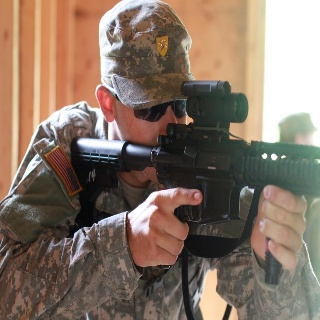rifle: (71, 80, 320, 225)
